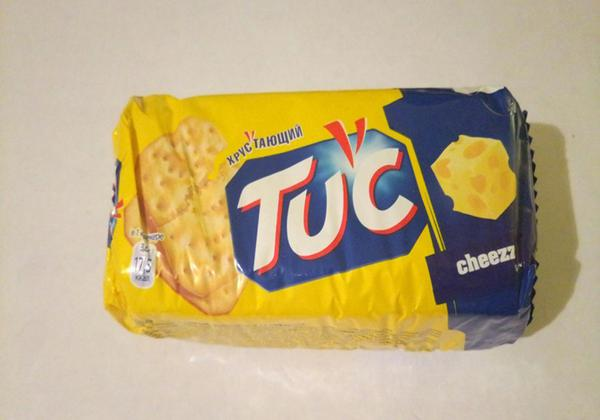crackers tuc: (129, 97, 518, 338)
